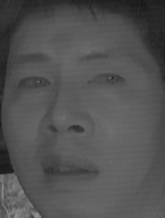eye: (86, 69, 125, 92), (16, 73, 51, 95)
mouth: (39, 154, 101, 185)
